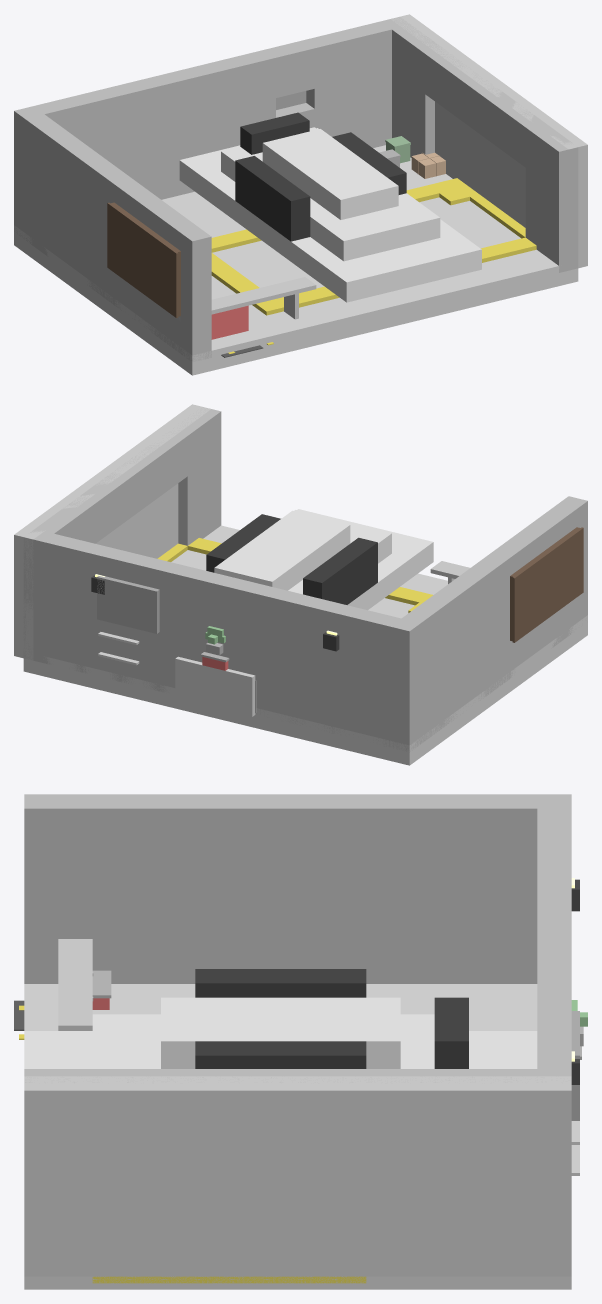
Rendered from garage.glb.
3 views of the same model, one above another, from view 1: azimuth 30°, elevation 25°; view 2: azimuth 150°, elevation 25°; view 3: azimuth 270°, elevation 25° (orthographic). The views are drawn at different scales.
Visible parts, largest first — view 1: walls, floor, car_body, rollup_door, car_windows, pad_markings, peg_frame_left, wb_top, wb_drawers, crate; view 2: walls, floor, car_body, rollup_door, peg_frame_left, car_windows, window_frame, cab_main, pad_markings, cab_drawer; view 3: rollup_door, walls, car_body, floor, car_windows, wb_top, pad_markings, window_frame.
Boxes of the visible parts, box(x1,y1,x2,y2) form: walls: box(14, 16, 578, 361); floor: box(14, 145, 578, 375); car_body: box(179, 127, 481, 302); rollup_door: box(391, 14, 587, 268); car_windows: box(235, 112, 406, 241); pad_markings: box(211, 178, 536, 315); peg_frame_left: box(107, 202, 178, 318); wb_top: box(177, 277, 316, 321); wb_drawers: box(211, 305, 248, 339); crate: box(411, 152, 445, 178); walls: box(23, 407, 587, 752); floor: box(23, 525, 587, 765); car_body: box(214, 509, 433, 610); rollup_door: box(14, 404, 210, 660); peg_frame_left: box(512, 527, 583, 642); car_windows: box(206, 514, 377, 604); window_frame: box(97, 576, 159, 633); cab_main: box(175, 662, 255, 716); pad_markings: box(157, 538, 432, 612); cab_drawer: box(175, 656, 255, 683); rollup_door: box(24, 1076, 571, 1276); walls: box(24, 794, 571, 1083); car_body: box(24, 997, 537, 1068); floor: box(24, 984, 571, 1289); car_windows: box(195, 969, 468, 1068); wb_top: box(58, 939, 92, 1030); pad_markings: box(92, 1276, 366, 1283); window_frame: box(571, 1011, 579, 1120).
Size of the model in its own units: 10.4 by 3.32 by 8.39.
